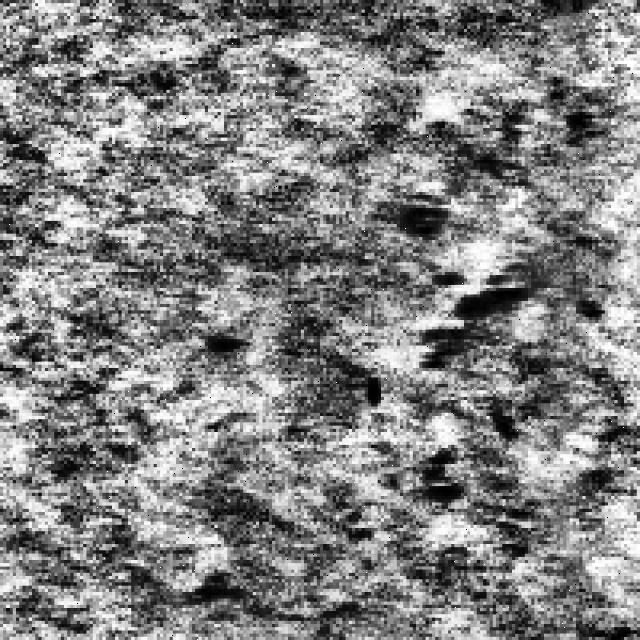Crazing: (406, 185, 544, 512)
